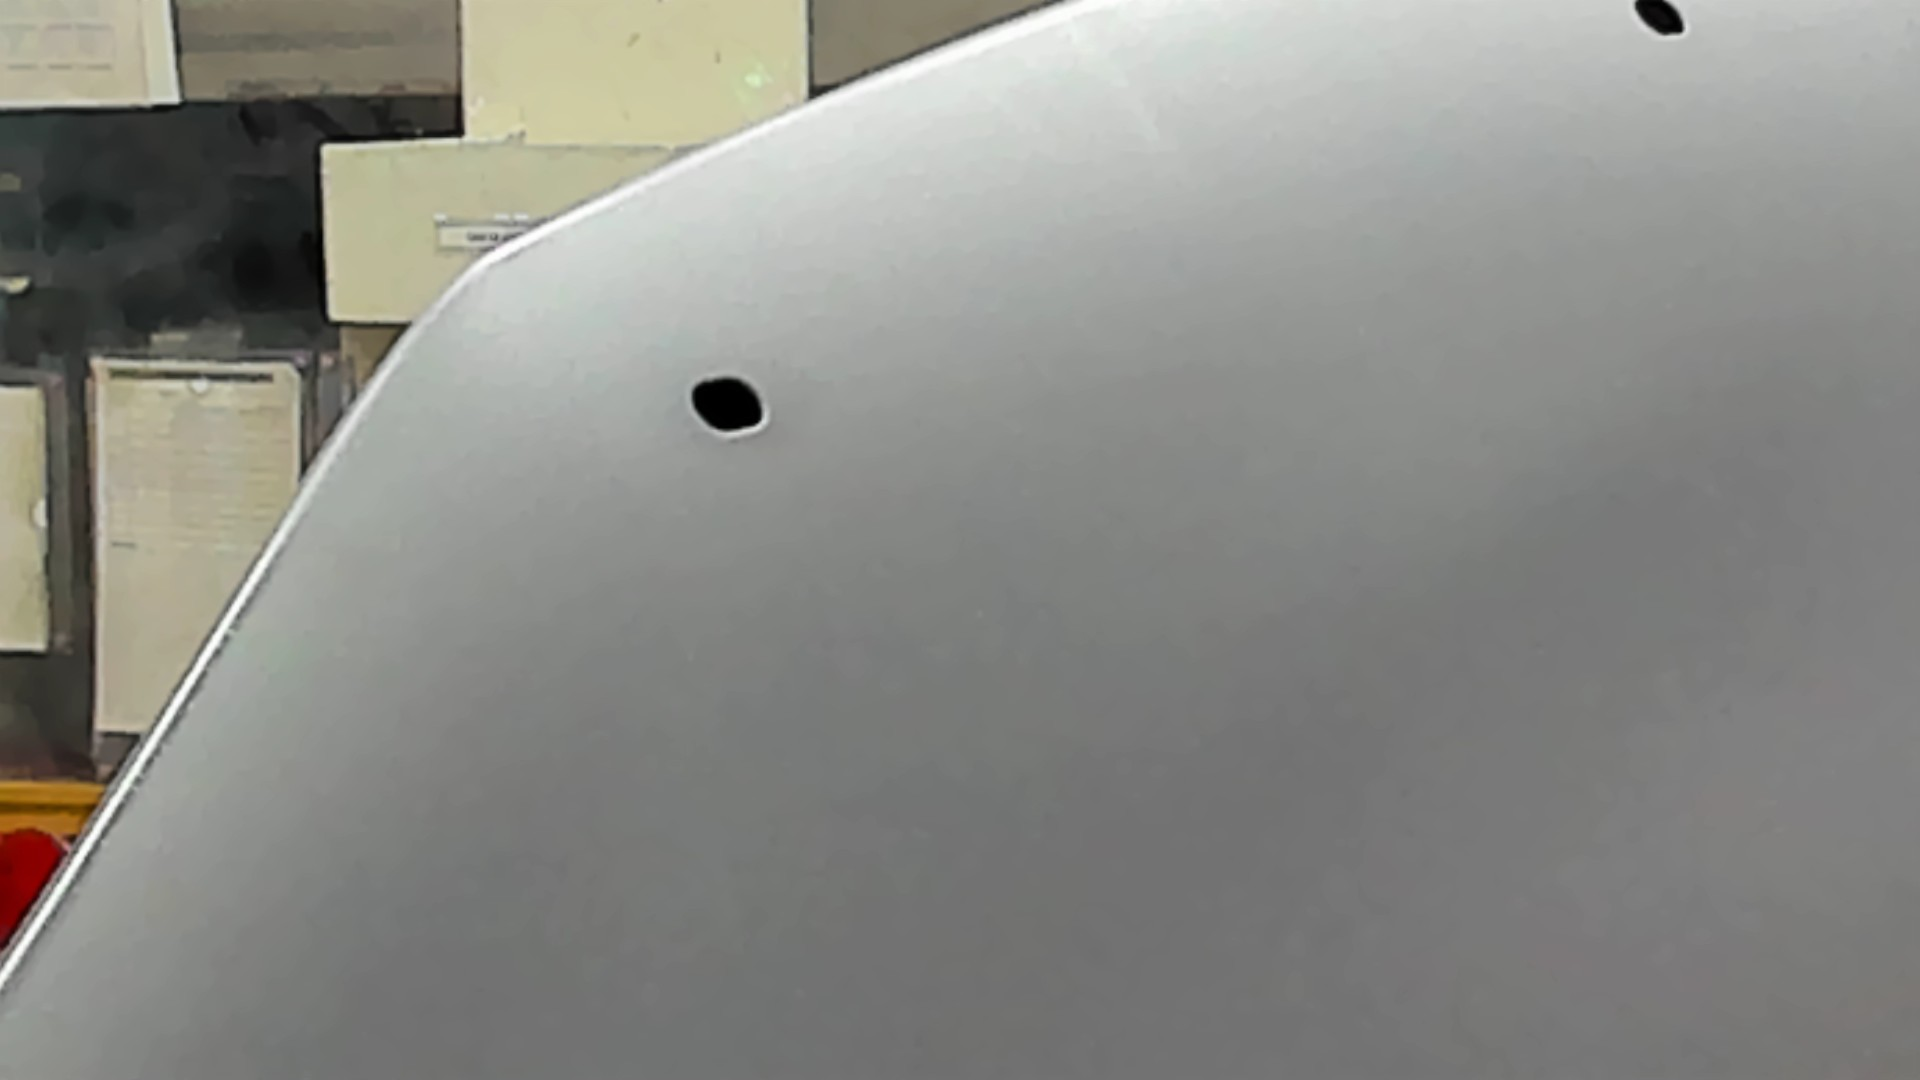chico: (674, 372, 796, 444), (1623, 1, 1689, 55)
